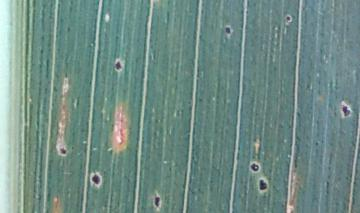tarspot: (258, 179, 268, 191), (91, 174, 101, 185), (342, 105, 350, 118), (153, 196, 161, 208), (249, 162, 259, 171), (114, 61, 122, 70), (59, 148, 67, 155), (225, 25, 231, 34), (286, 14, 291, 22)
